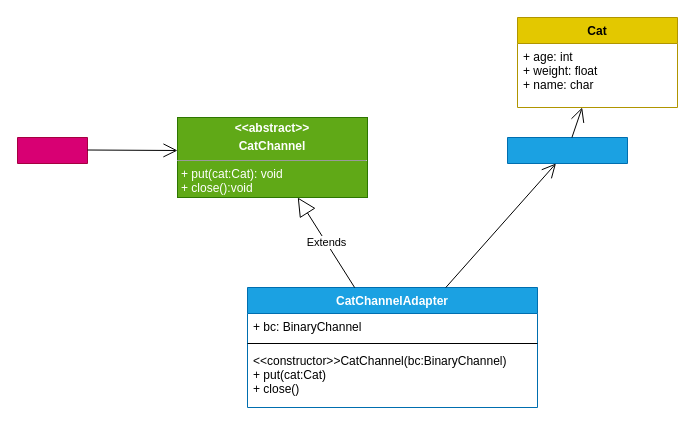
This 695x428 diagram has some shape labels left out. Each missing label, with the centre of its shape:
BinaryChannel: point 567,150
Client: point 52,150
